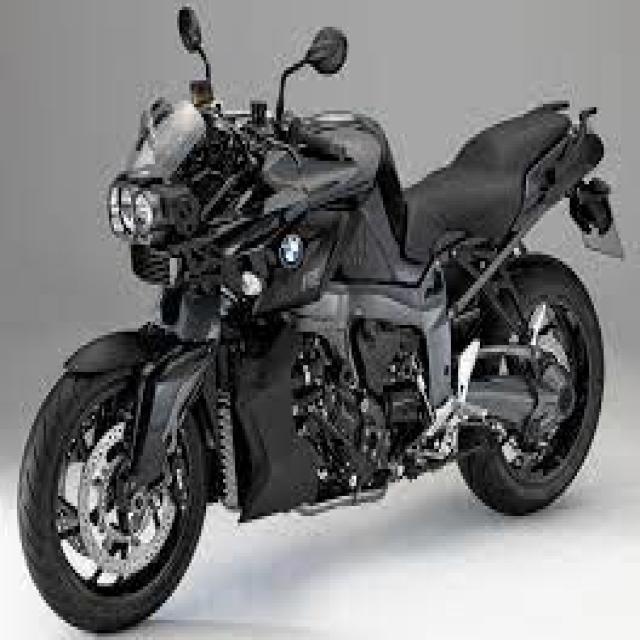MOTORCYCLE: (28, 27, 623, 634)
